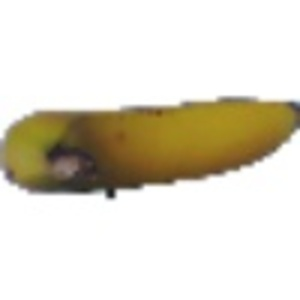banana: (6, 92, 296, 200)
